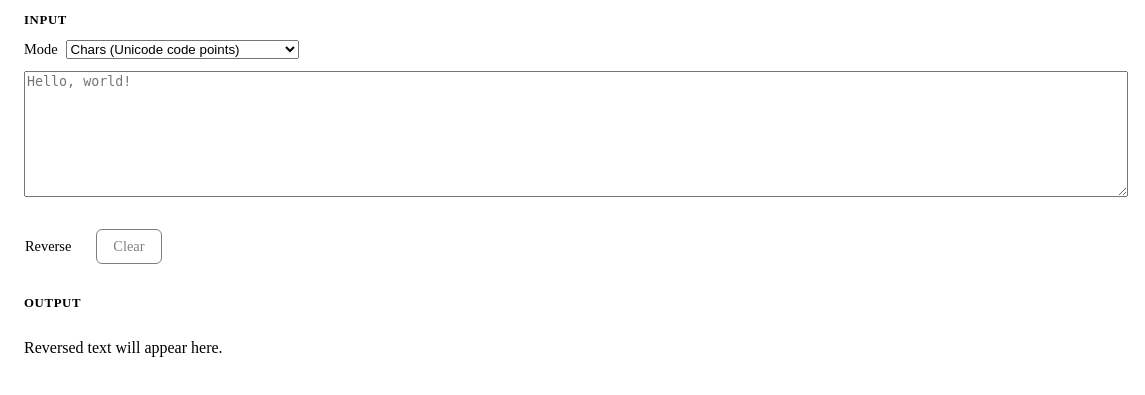
TextReverserTool › reflects the selected mode in the reversed result
The image size is (1145, 395).
Type "one two three" into the text box named "Text to reverse".
click(576, 134); type("one two three")  # box [24,71,1128,197]
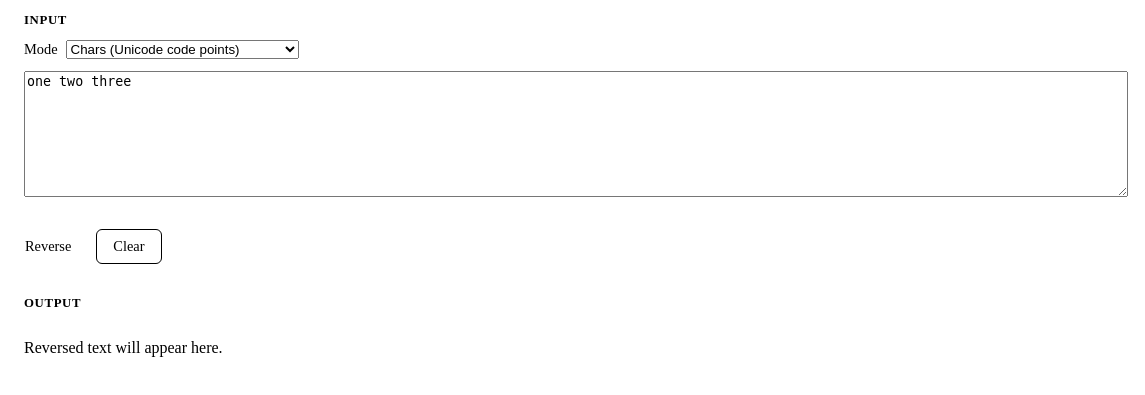
Select "Words (reverse word order per line)" in the dropdown labelled "Mode" at point(182, 50), box [66,40,299,59]
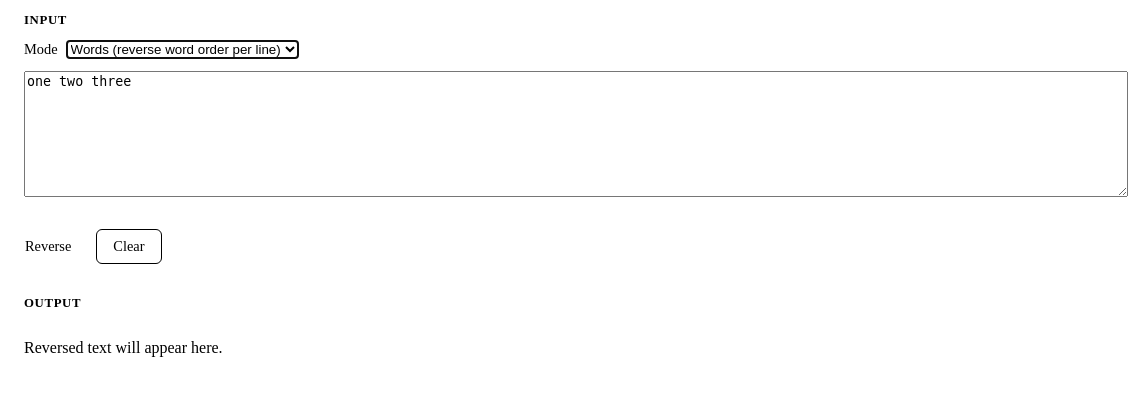
Click the button "Reverse".
click(48, 246)  # box [8,229,88,264]
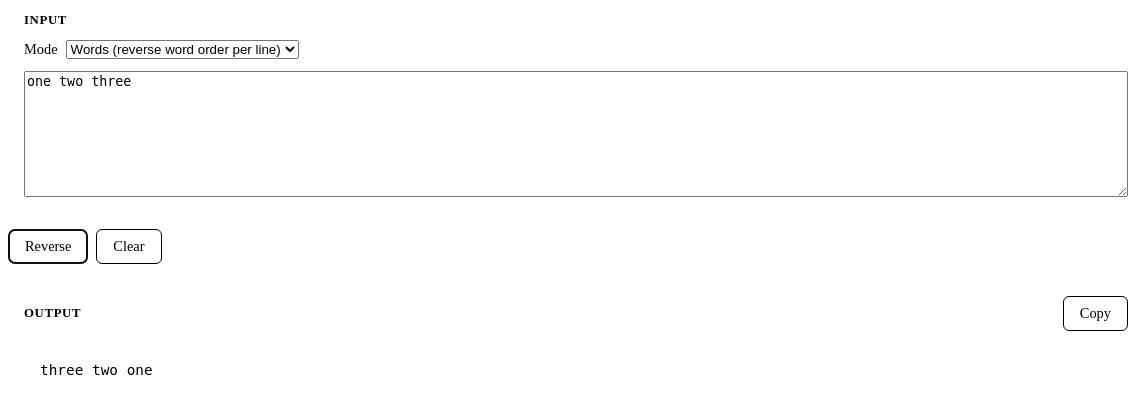
Expected: the text with test id "reverser-output" reads "three two one", [40,362,153,378]
